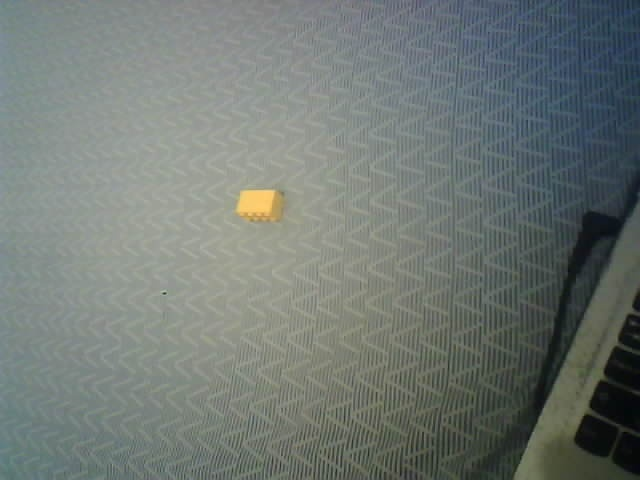lego: (235, 189, 283, 223)
